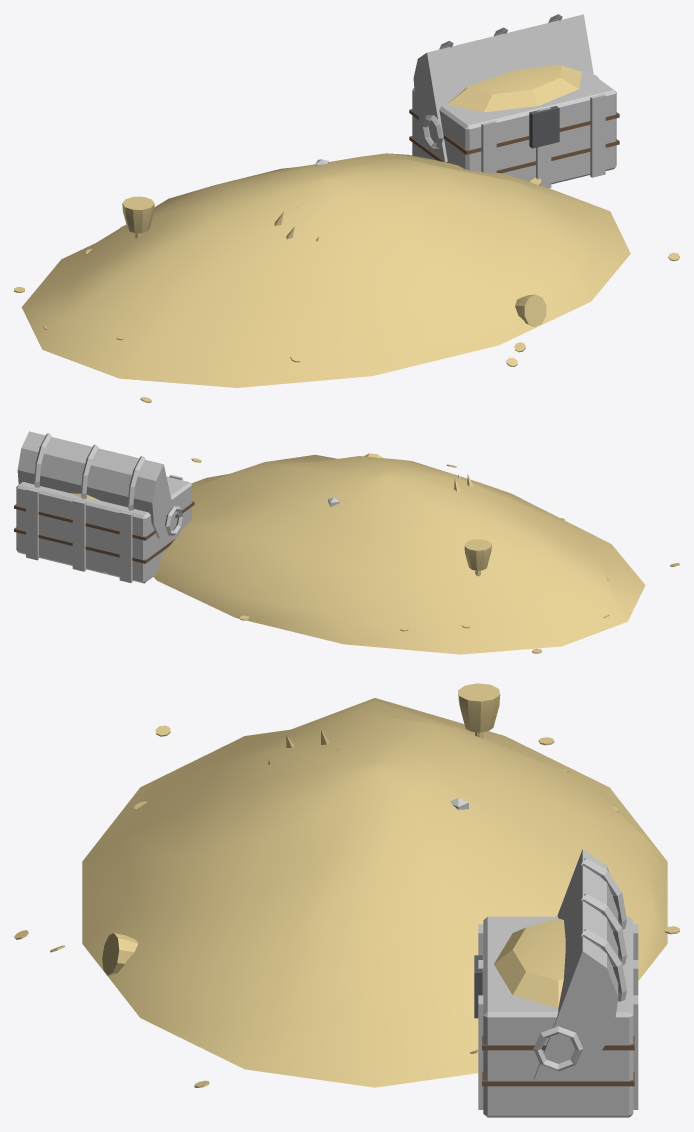
File: clutter_hoard.glb
3 renders of one model, top to bottom at view 1: azimuth 30°, elevation 25°; view 2: azimuth 150°, elevation 25°; view 3: azimuth 270°, elevation 25°, orthographic. The views are drawn at different scales.
Visible parts, largest first — view 1: clutter_hoard; view 2: clutter_hoard; view 3: clutter_hoard.
Part boxes in pixels (left/top/right/bottom): clutter_hoard: left=14, top=14, right=679, bottom=402; clutter_hoard: left=14, top=431, right=679, bottom=654; clutter_hoard: left=14, top=683, right=679, bottom=1117.
Size of the model in its own units: 2.31 by 0.5092 by 1.6.
